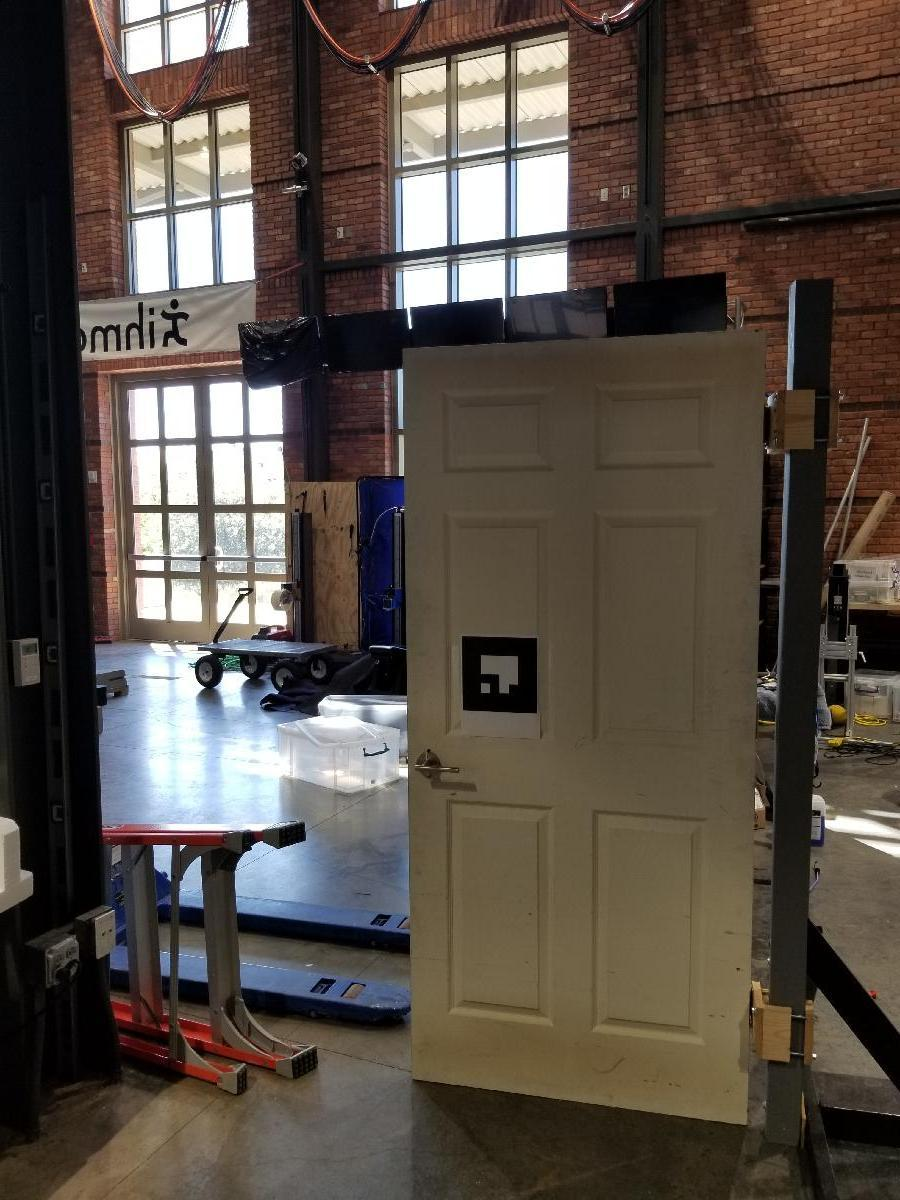door: (396, 326, 766, 1094)
handle: (406, 749, 468, 785)
